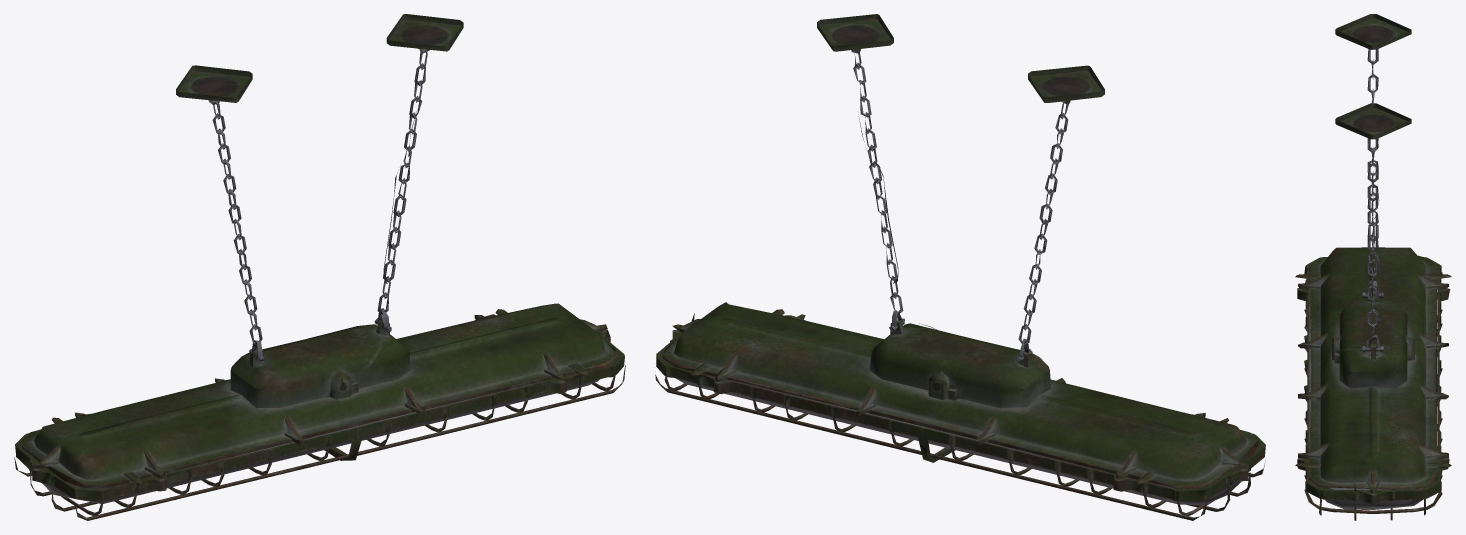
File: caged_hanging_light.lod1.glb
3 renders of one model, left to right at view 1: azimuth 30°, elevation 25°; view 2: azimuth 150°, elevation 25°; view 3: azimuth 270°, elevation 25°, orthographic. The views are drawn at different scales.
Visible parts, largest first — view 1: caged_hanging_light; view 2: caged_hanging_light; view 3: caged_hanging_light.
Boxes of the visible parts, x1,y1,x2,y2 form: caged_hanging_light: (14,14,625,520); caged_hanging_light: (655,14,1265,520); caged_hanging_light: (1295,14,1451,520).
Bounding box in the file's own units: 1.16 × 0.7501 × 0.3149.
1 material, 1 textured.
